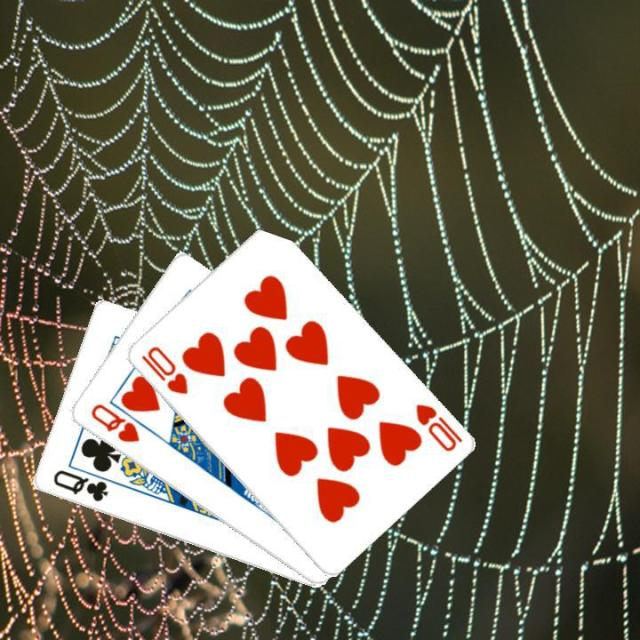10H: (411, 400, 464, 454), (137, 342, 189, 397)
QC: (49, 466, 110, 504)
QH: (86, 399, 142, 445)
